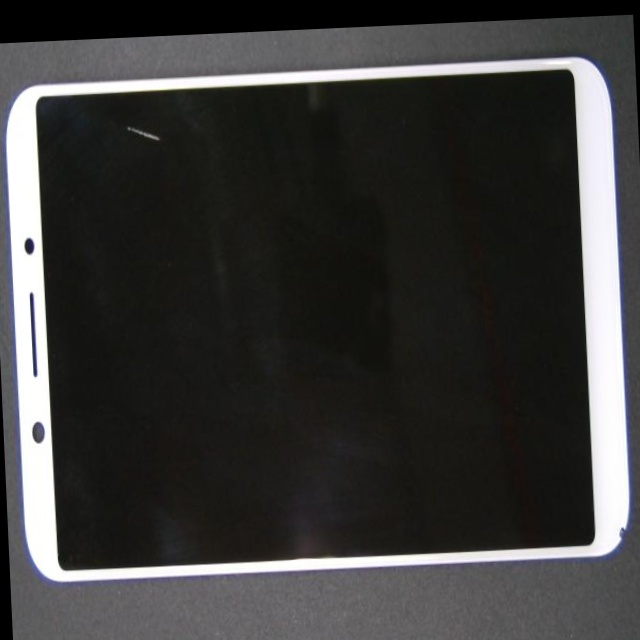scratch: (102, 84, 242, 165)
